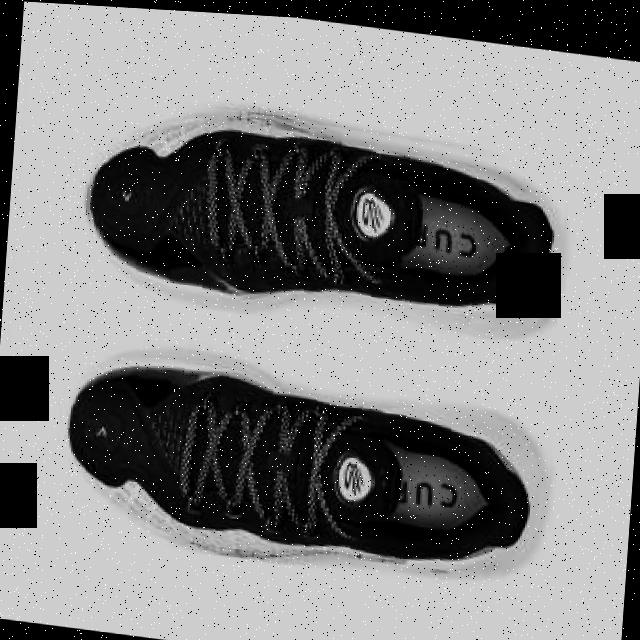shoe: (59, 325, 556, 591), (76, 86, 568, 348)
